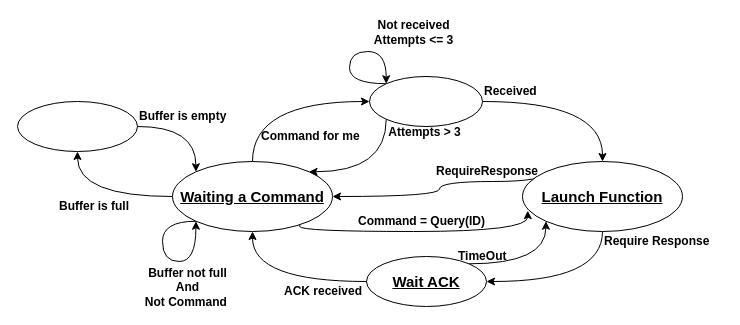
Some shapes in this 740 by 325 pixel diagram are drawn without their labels. The shapes that lost their labels are listed below. From the top down, each one's box as (x1, y1, x2, y2) in pixels, then its label:
(368, 76, 482, 126): Sending ACK
(16, 100, 138, 152): Clear buffer
